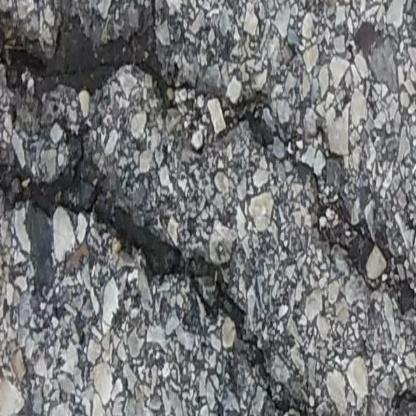Cracks: (0, 151, 332, 416), (0, 7, 178, 120), (314, 183, 416, 344), (216, 92, 300, 151), (398, 389, 416, 416)
